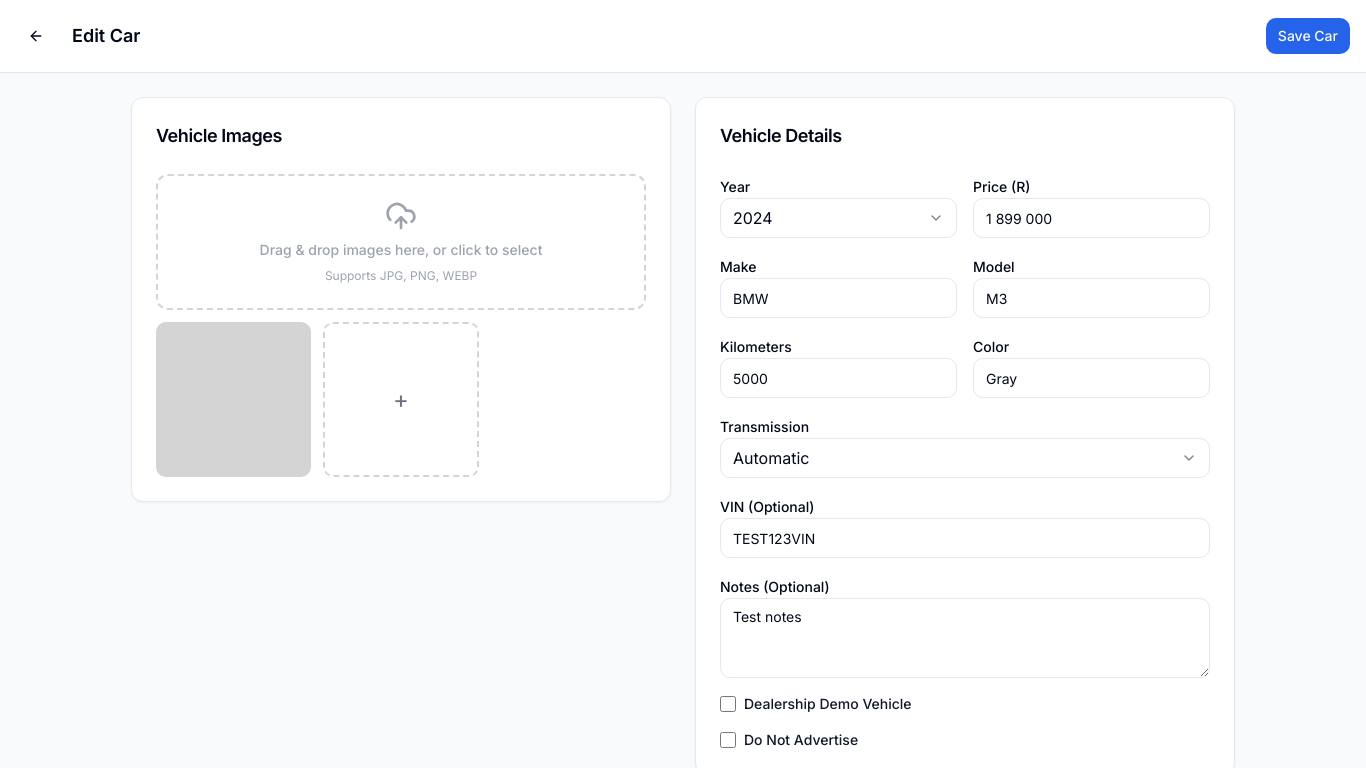
Do Not Advertise Feature › AddEditCar Component › should show DNA badge when checkbox is toggled on
// Toggle checkbox
Click the checkbox labelled "Do Not Advertise" at (728, 740), box [720,732,736,748]
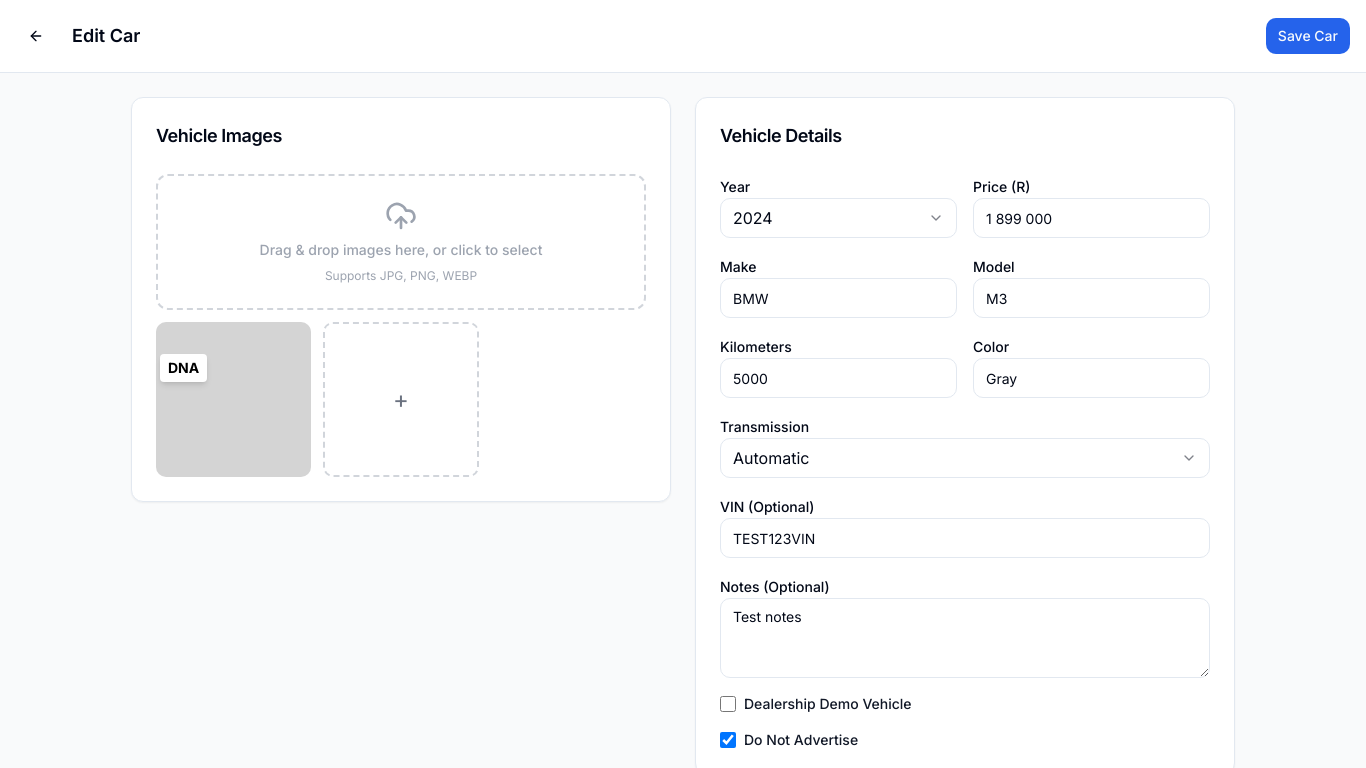
Check: the text "DNA" is shown, box [160,354,207,382]
